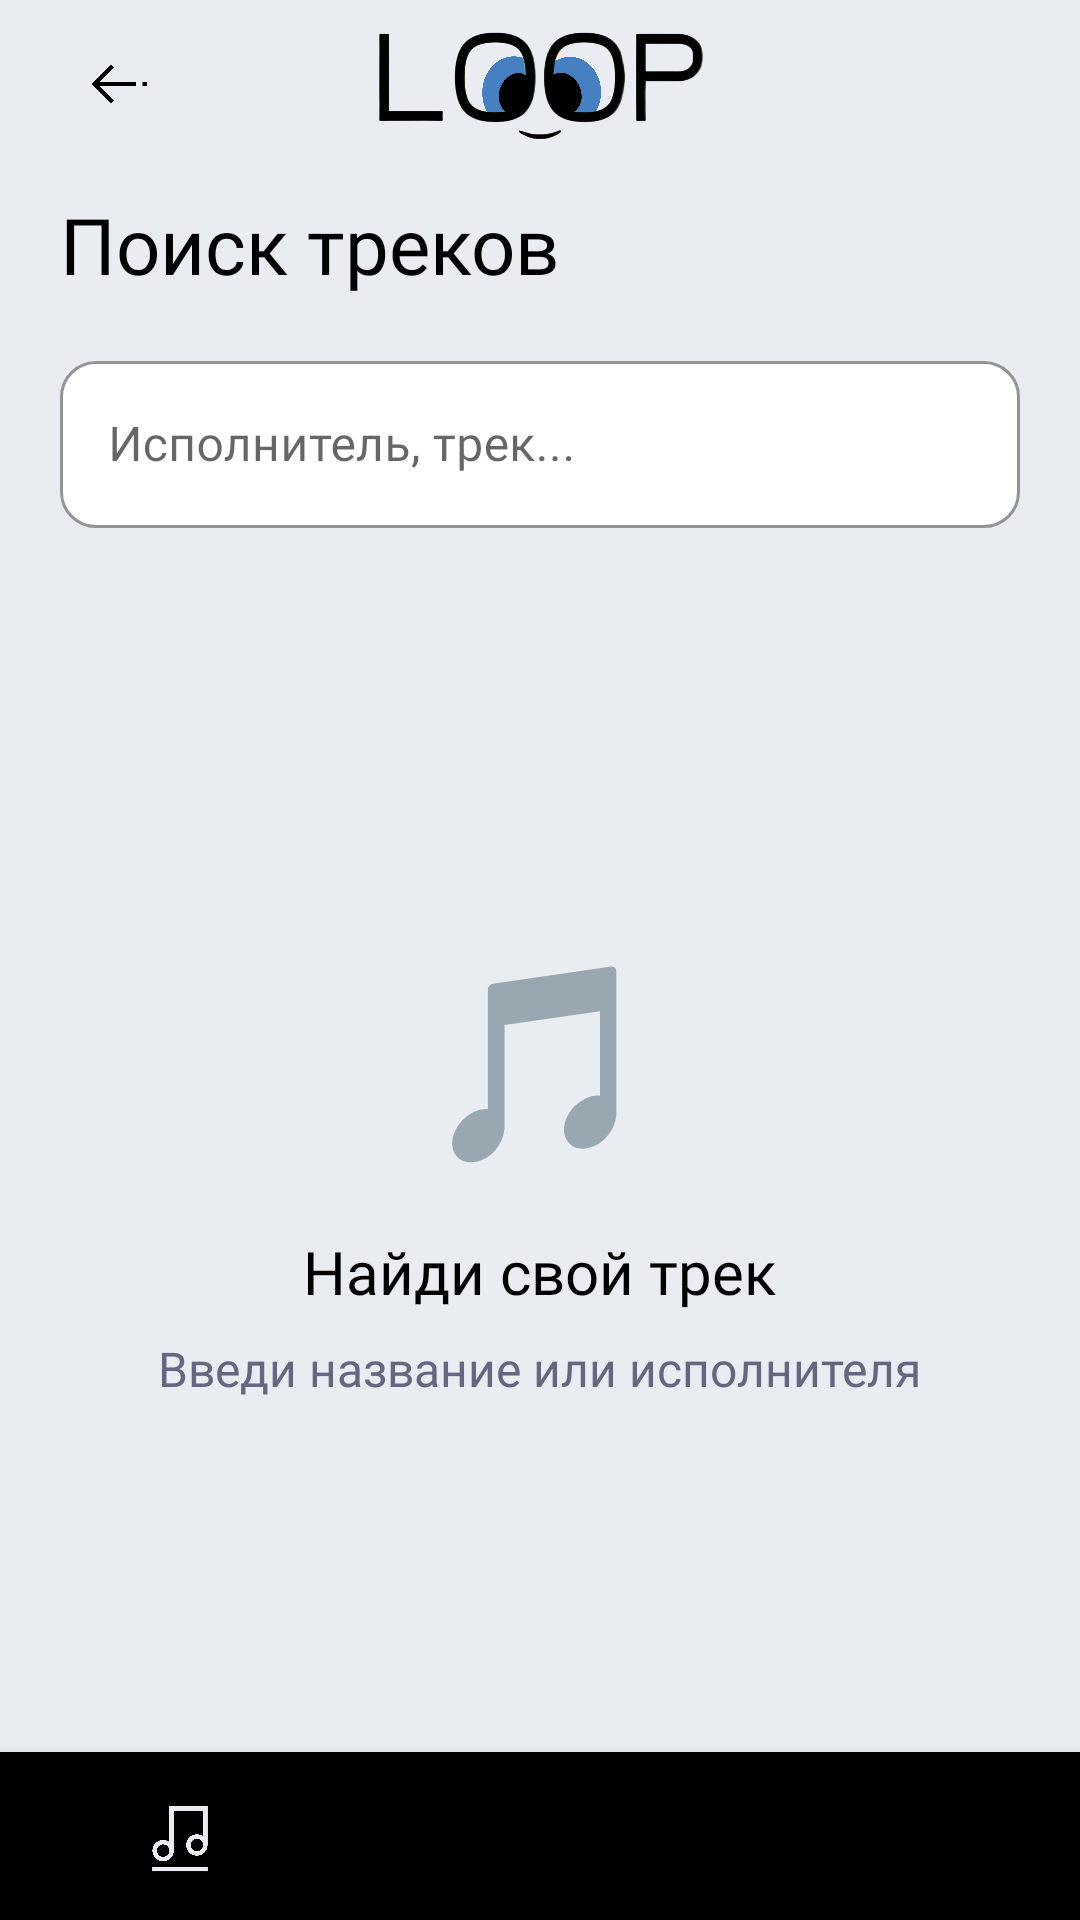

Icons on this 1080x1920 Android screen, each with its box as {"x1": x1, "y1": y1, "x2": x2, "y2": y2}:
Назад: {"x1": 92, "y1": 65, "x2": 147, "y2": 103}
